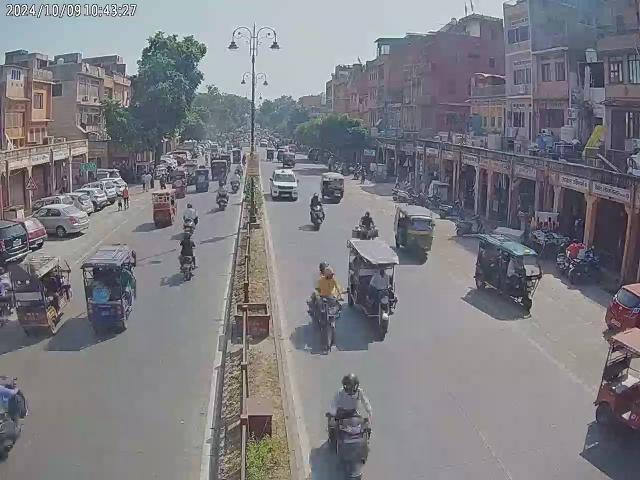auto: (472, 231, 544, 313), (345, 236, 400, 338), (80, 241, 138, 334), (12, 253, 73, 337), (597, 326, 640, 444), (394, 202, 436, 262), (150, 188, 176, 228), (320, 172, 345, 204), (193, 165, 210, 193)
car: (27, 203, 90, 237), (270, 168, 298, 201)
helmet: (341, 369, 363, 398), (322, 266, 335, 280), (318, 260, 332, 272), (182, 230, 192, 239)
motorbike: (566, 253, 602, 282)
motorbike-rider: (306, 262, 344, 351), (177, 229, 197, 281), (352, 211, 378, 240)
person: (375, 264, 393, 298), (120, 184, 130, 210)
scooty: (454, 212, 487, 237), (438, 198, 464, 220)
scooty-rider: (324, 372, 374, 476), (0, 368, 30, 463), (309, 190, 326, 230), (182, 201, 199, 235), (216, 181, 230, 210)
